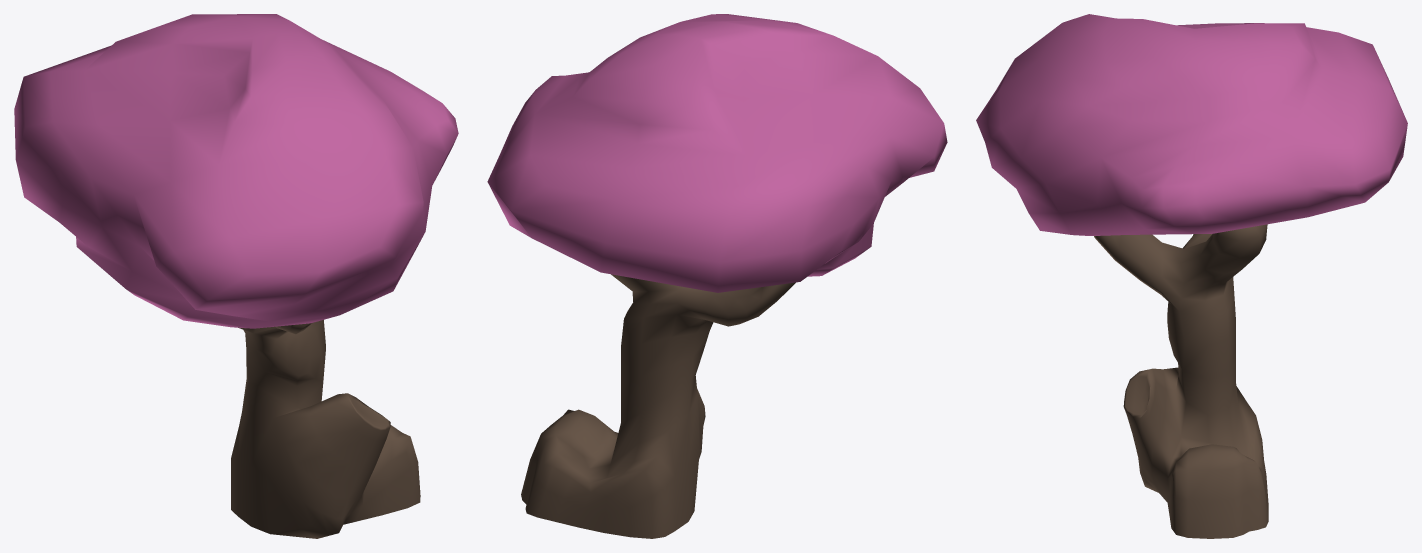
Rendered from SM_city_tree_C.fbx.
The picture shows the model from 3 angles, left to right: view 1: azimuth 30°, elevation 25°; view 2: azimuth 150°, elevation 25°; view 3: azimuth 270°, elevation 25°; orthographic projection. The views are drawn at different scales.
Visible parts, largest first — view 1: SM_city_tree_C; view 2: SM_city_tree_C; view 3: SM_city_tree_C.
Part boxes in pixels (box(x1,y1,x2,y2)): SM_city_tree_C: box(14, 14, 458, 538); SM_city_tree_C: box(487, 14, 947, 538); SM_city_tree_C: box(976, 14, 1407, 538).
Size of the model in its own units: 377 by 498 by 443.
